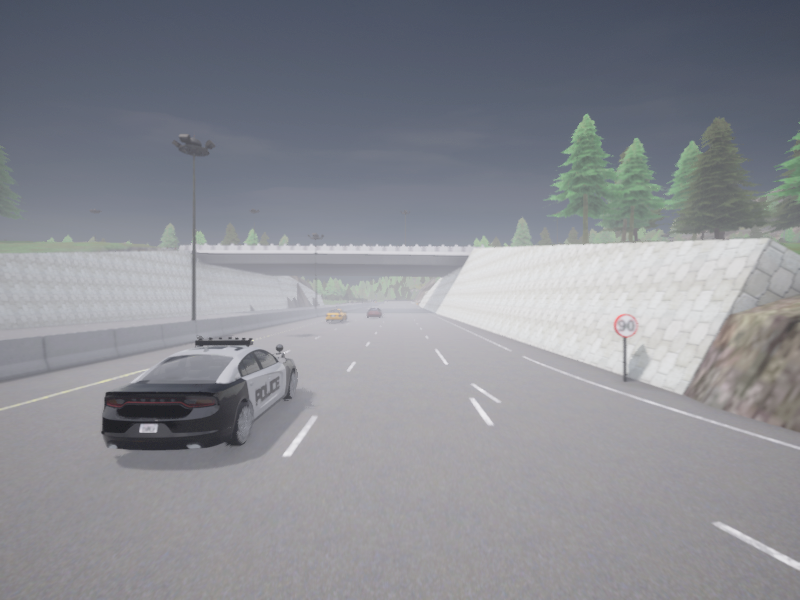vehicle: (101, 337, 296, 449), (326, 307, 346, 321), (367, 307, 382, 317)
